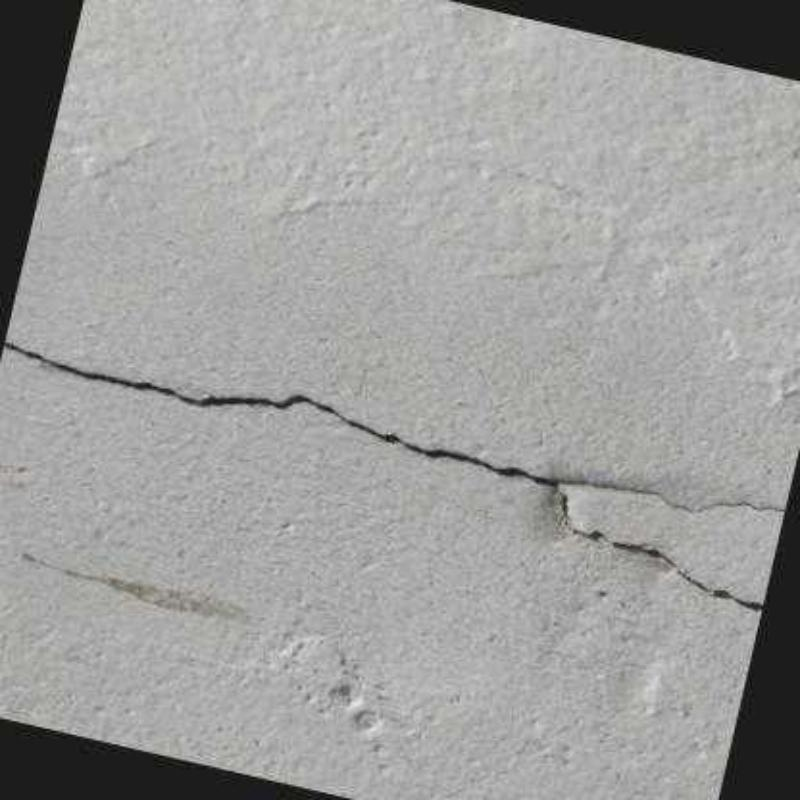pothole: (0, 334, 786, 618)
